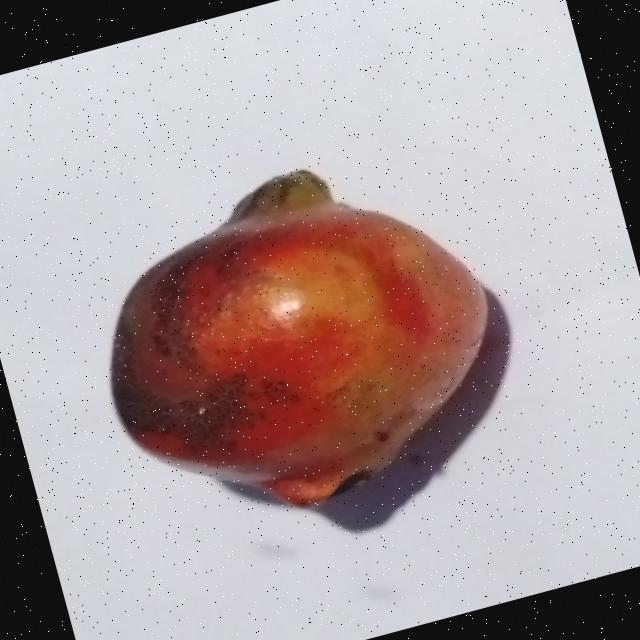Rotten: (59, 126, 532, 554)
